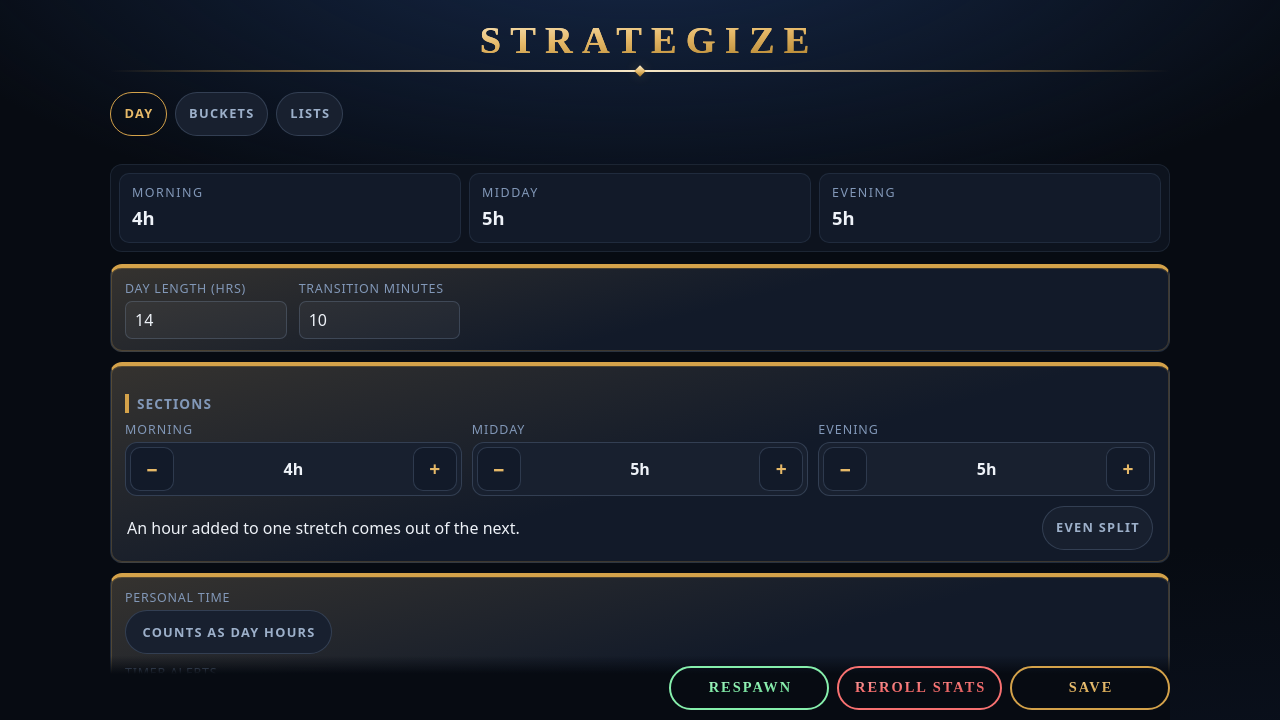
Edit Buckets regressions › does not offer the Buckets form until the buckets have loaded
The image size is (1280, 720).
Click the button "Buckets".
click(221, 114)  # box [175, 92, 268, 136]
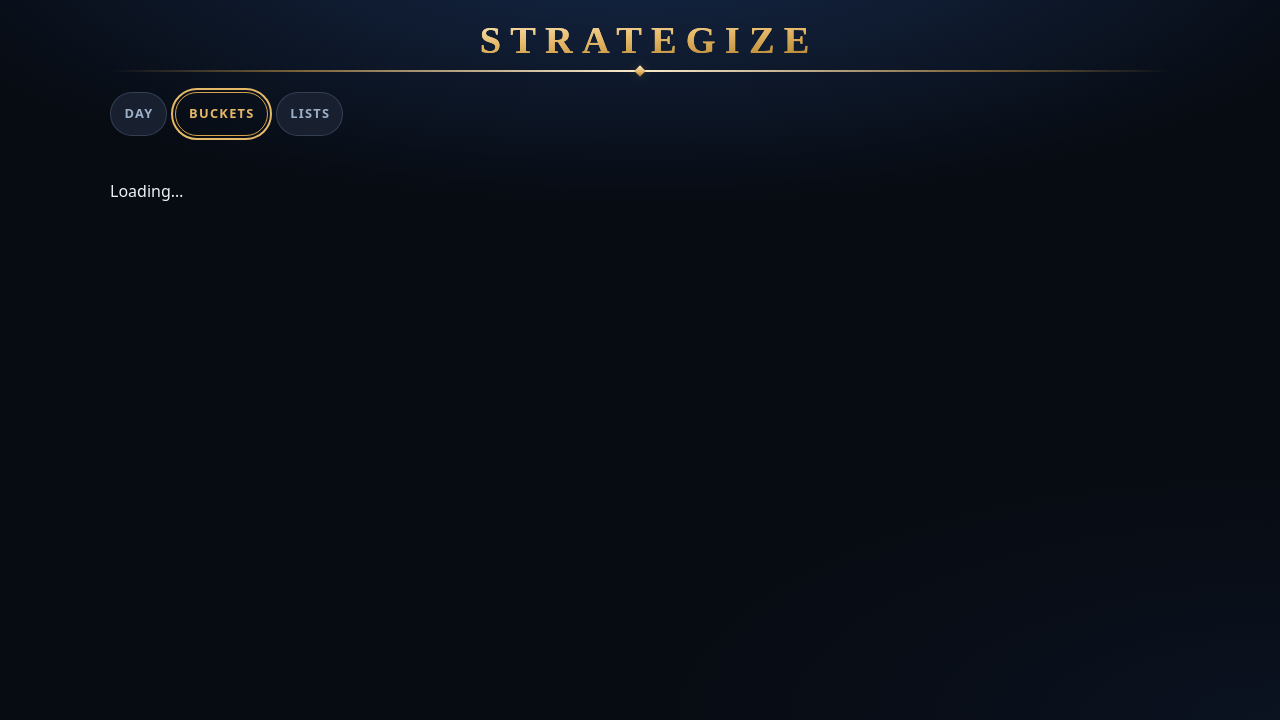
Now the button "Save" is gone
Now the text "Loading…" is shown, box [110, 180, 183, 202]
